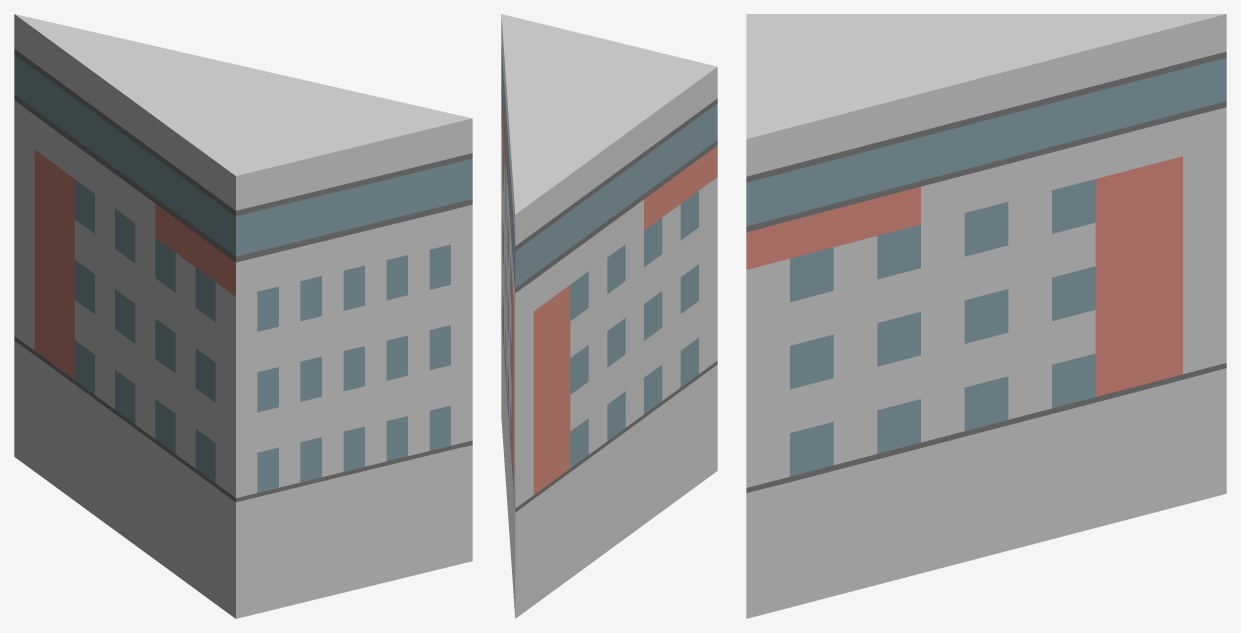
The model's file is MM_house_10_final.fbx.
The picture shows the model from 3 angles, left to right: view 1: azimuth 30°, elevation 25°; view 2: azimuth 150°, elevation 25°; view 3: azimuth 270°, elevation 25°; orthographic projection. The views are drawn at different scales.
Visible parts, largest first — view 1: pCube1; view 2: pCube1; view 3: pCube1.
Part boxes in pixels (x1,y1,x2,y2): pCube1: (14, 14, 472, 618); pCube1: (501, 14, 717, 618); pCube1: (746, 14, 1226, 618).
Bounding box in the file's own units: 24.6 × 43.98 × 39.89.
